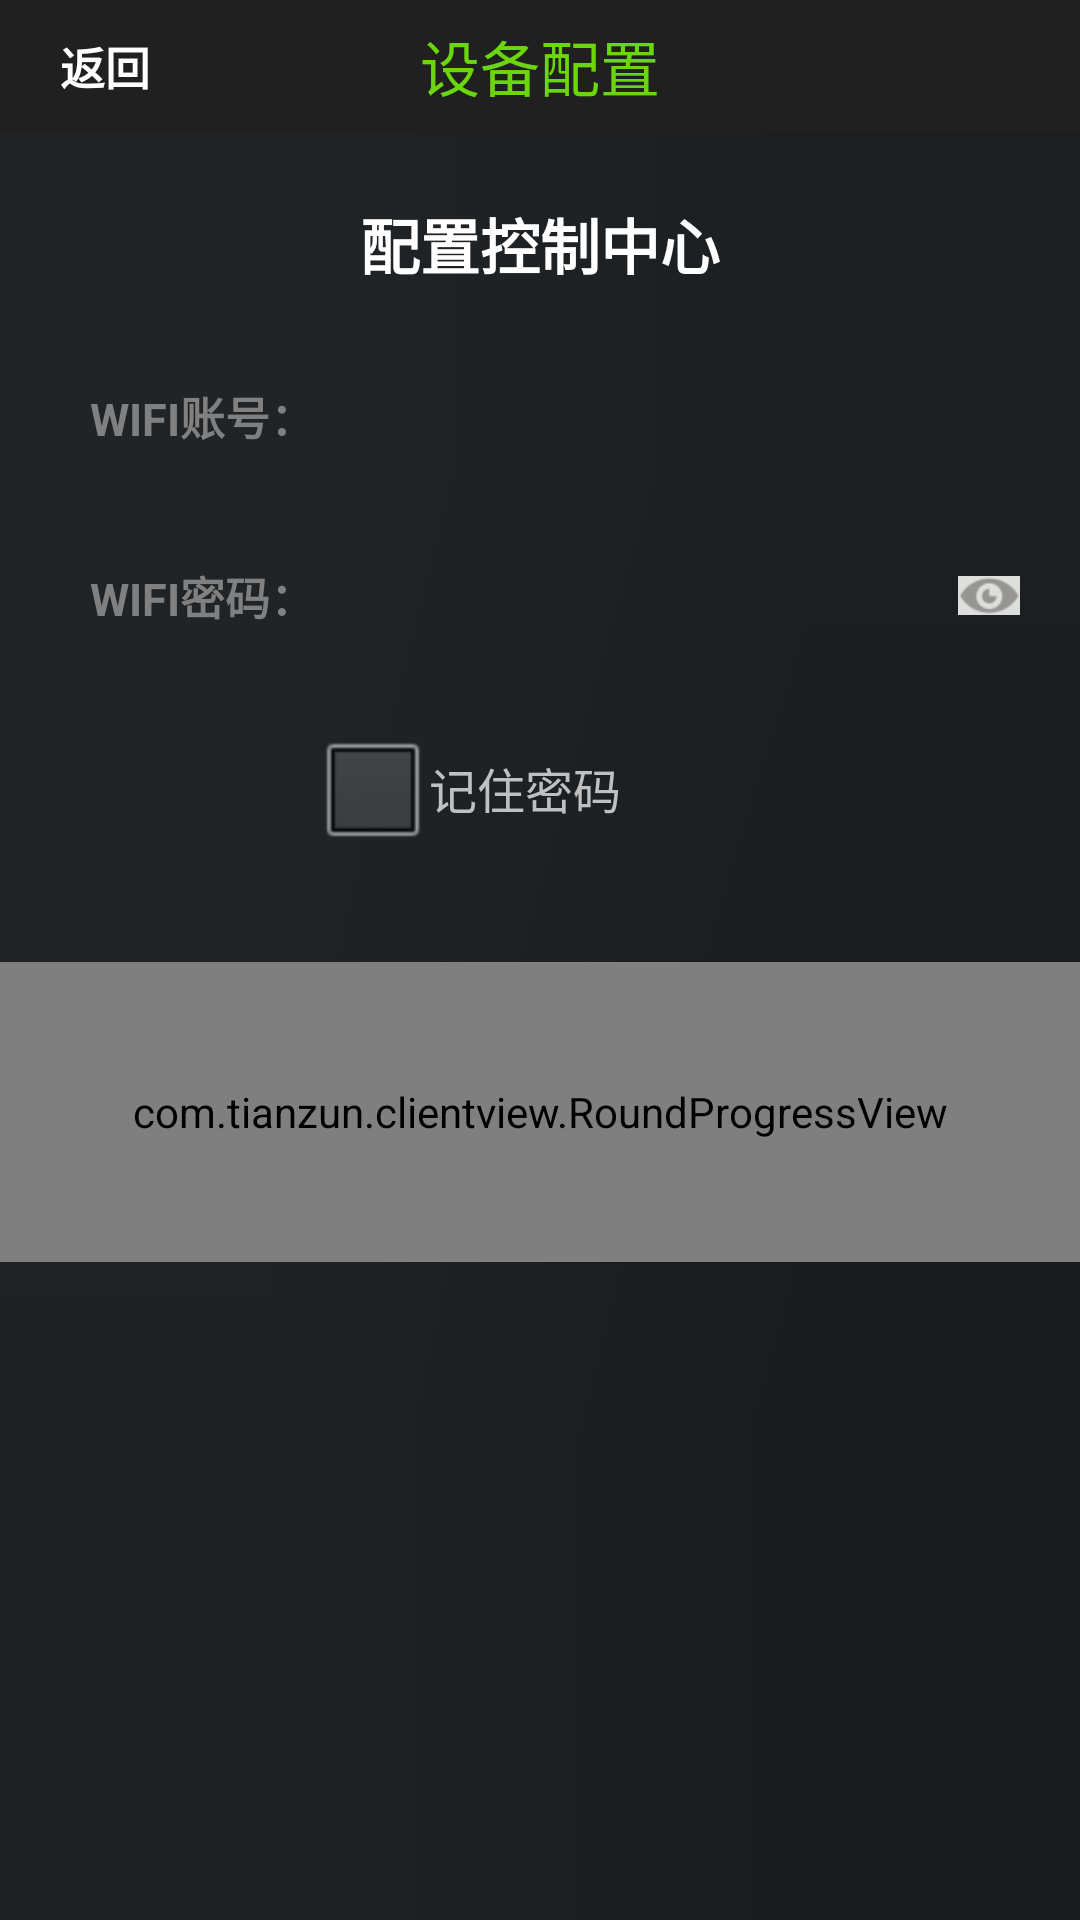

Locate icon controls on the screen. Image size 1080×1920, boxes as (x1, y1, x2, y2).
eye: (958, 576, 1020, 615)
